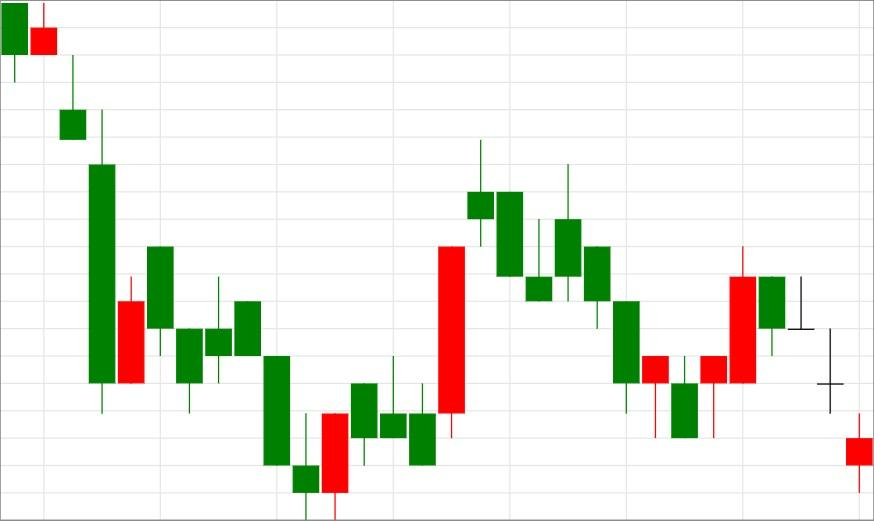bullish_engulfing_rise: (234, 300, 350, 521)
hammer_rise: (554, 165, 670, 439)
